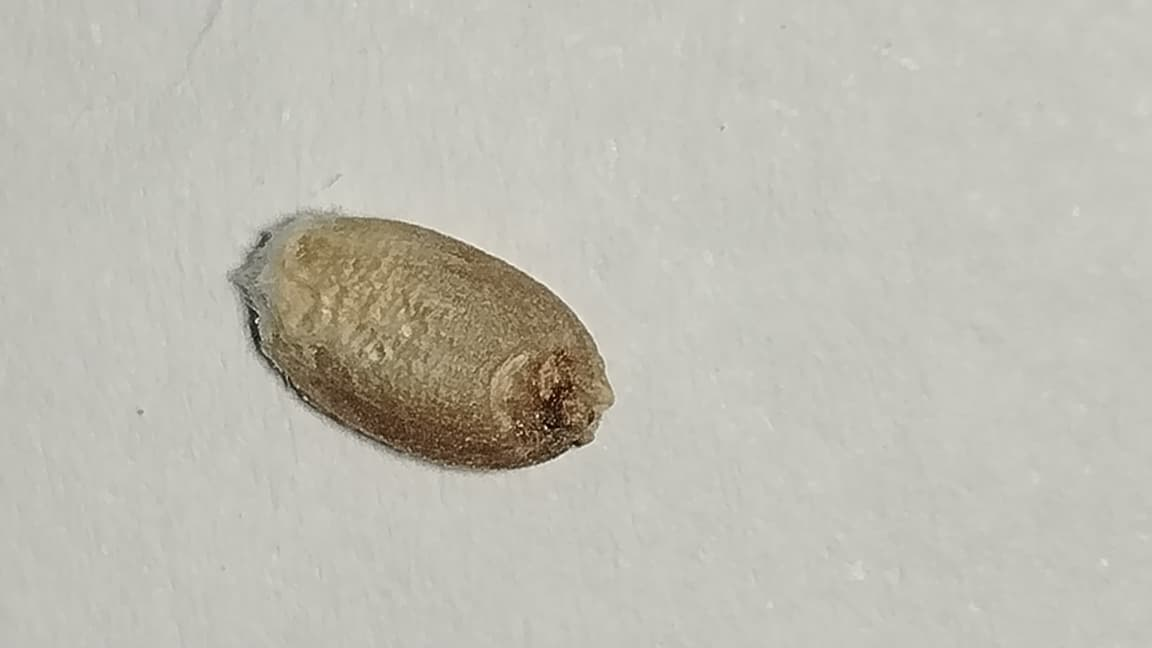staindamage: (240, 208, 613, 464)
